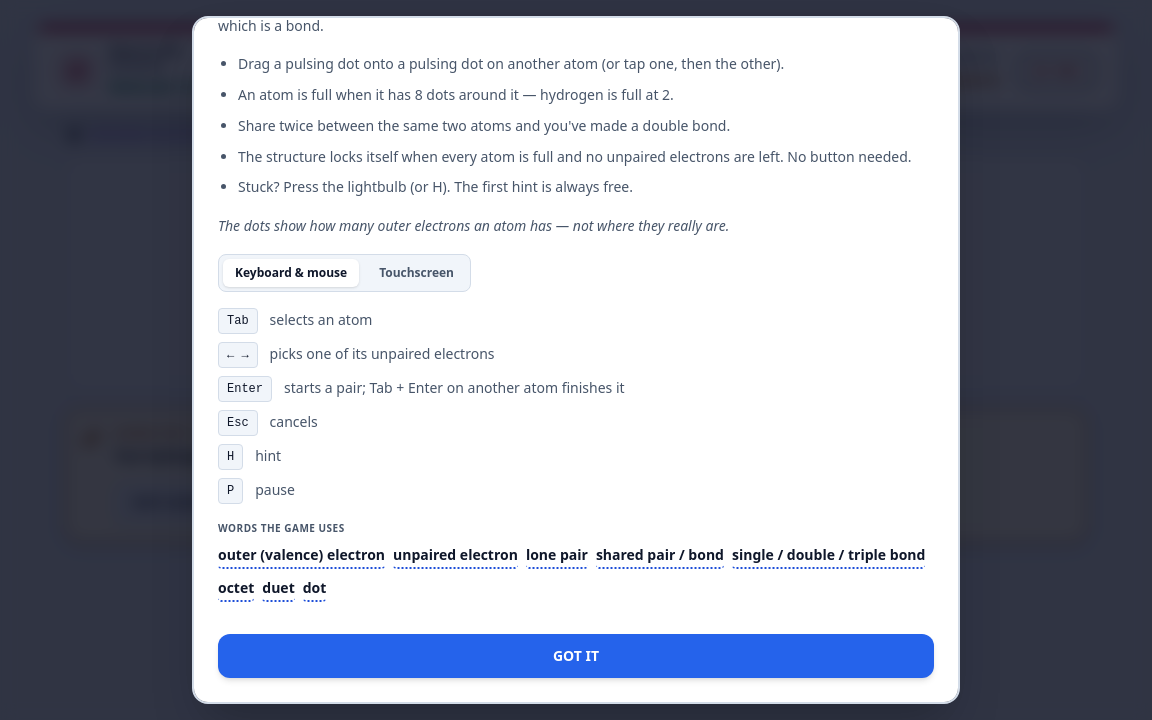
Test: Share to Fill page (game flow) › opens the instructions on a first visit, freezes the canvas, and remembers the dismissal
The image size is (1152, 720).
(page scrolled)
Expected: the list item "Drag a pulsing dot onto a pulsing dot on another atom (or tap one, then the other)." is shown, [238,54,784,73]
Click the button "GOT IT". click: (576, 656)
box: [218,634,934,678]
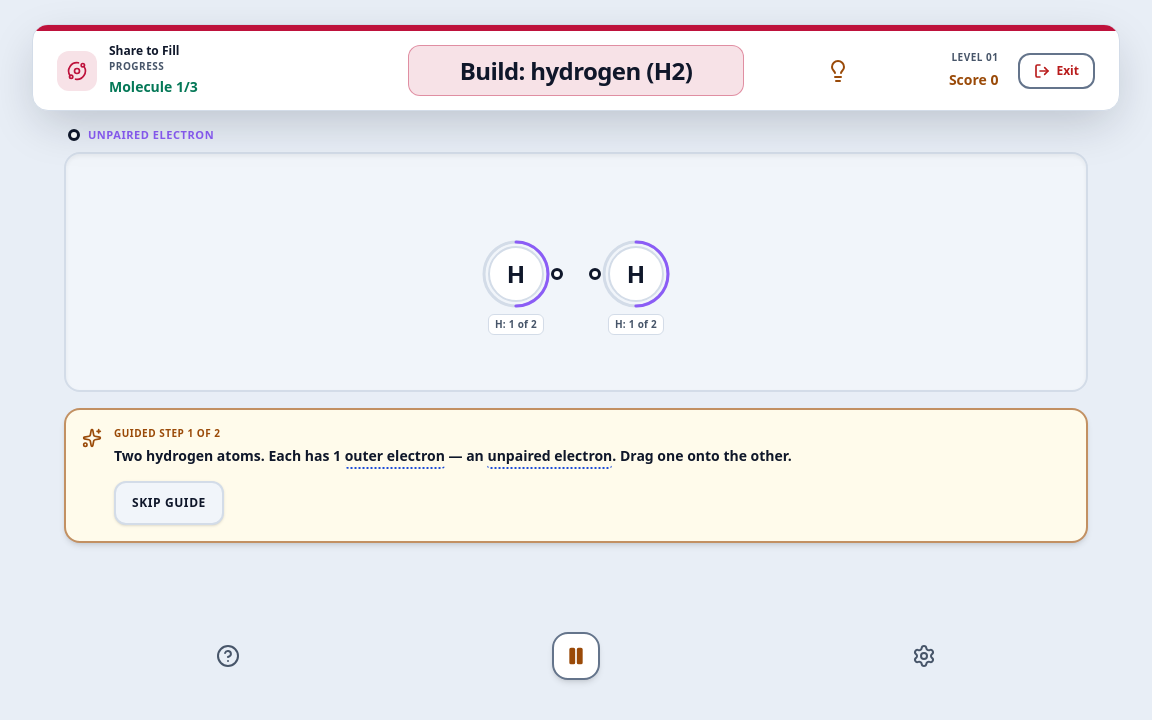
Expected: the 1st button named "Hydrogen, unpaired electron 1 of 1" is shown, [543,260,571,288]
